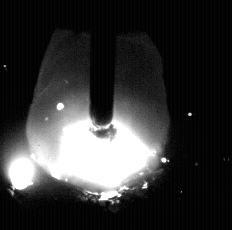arame: (90, 0, 115, 125)
poca: (25, 0, 169, 230)
